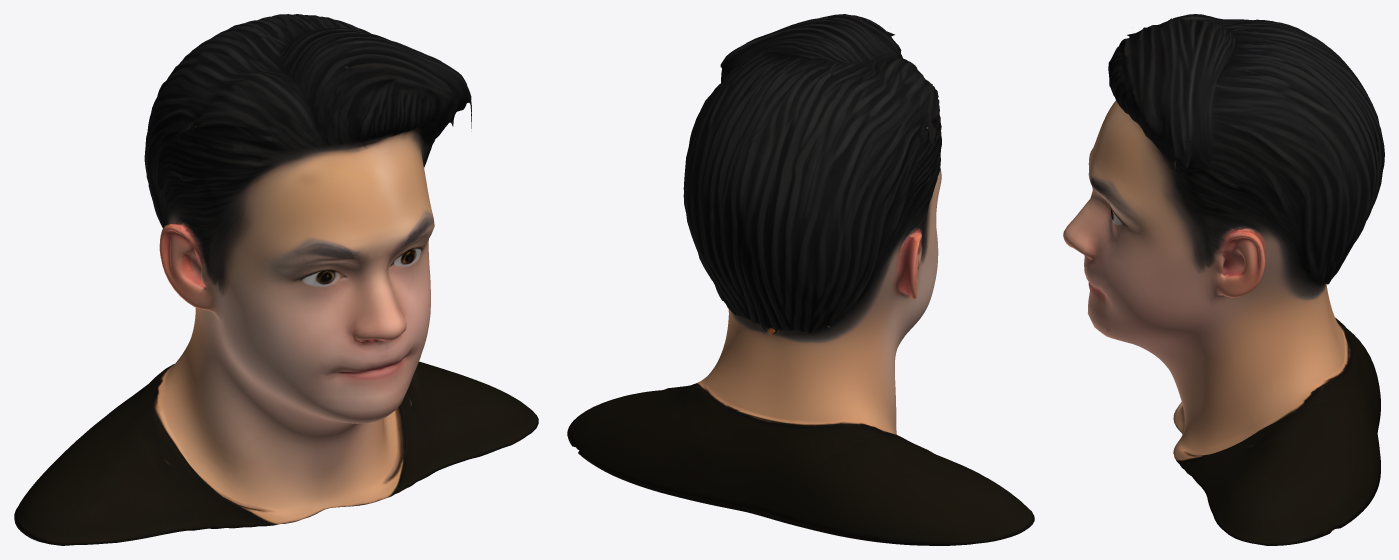
File: central-hub.glb
3 renders of one model, left to right at view 1: azimuth 30°, elevation 25°; view 2: azimuth 150°, elevation 25°; view 3: azimuth 270°, elevation 25°, orthographic. The views are drawn at different scales.
Parts seen in each view (by area): view 1: model; view 2: model; view 3: model.
Part boxes in pixels (x1,y1,x2,y2): model: (14,14,538,545); model: (567,14,1034,545); model: (1063,14,1384,545).
Bounding box in the file's own units: 1.9 × 1.68 × 1.17.
Materials: 1 (1 with a texture image).
